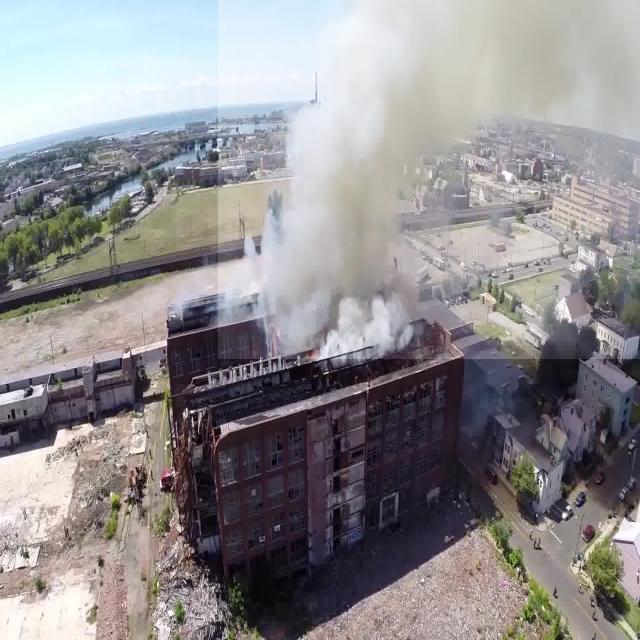Smoke: (218, 0, 640, 359)
